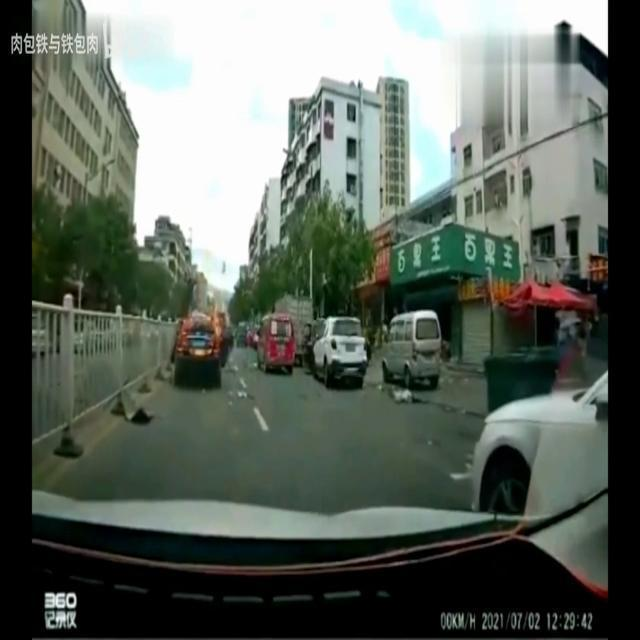accident: (169, 307, 239, 393)
non-accident: (308, 308, 444, 400), (256, 312, 370, 392)
